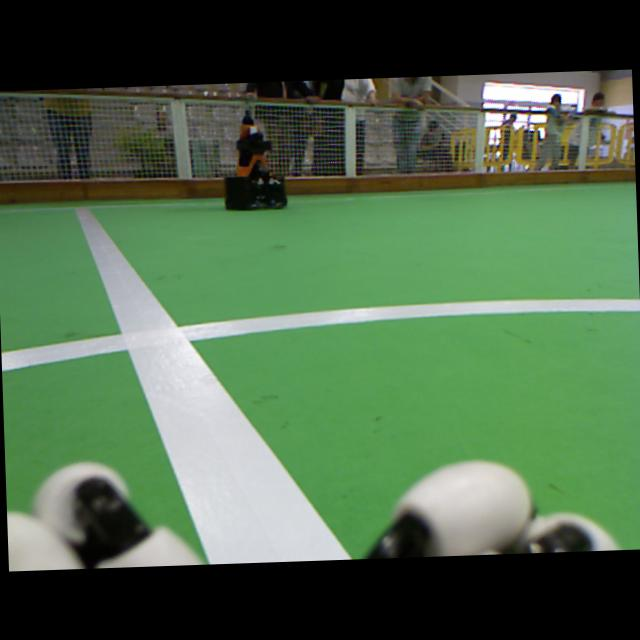robot: (224, 96, 289, 210)
